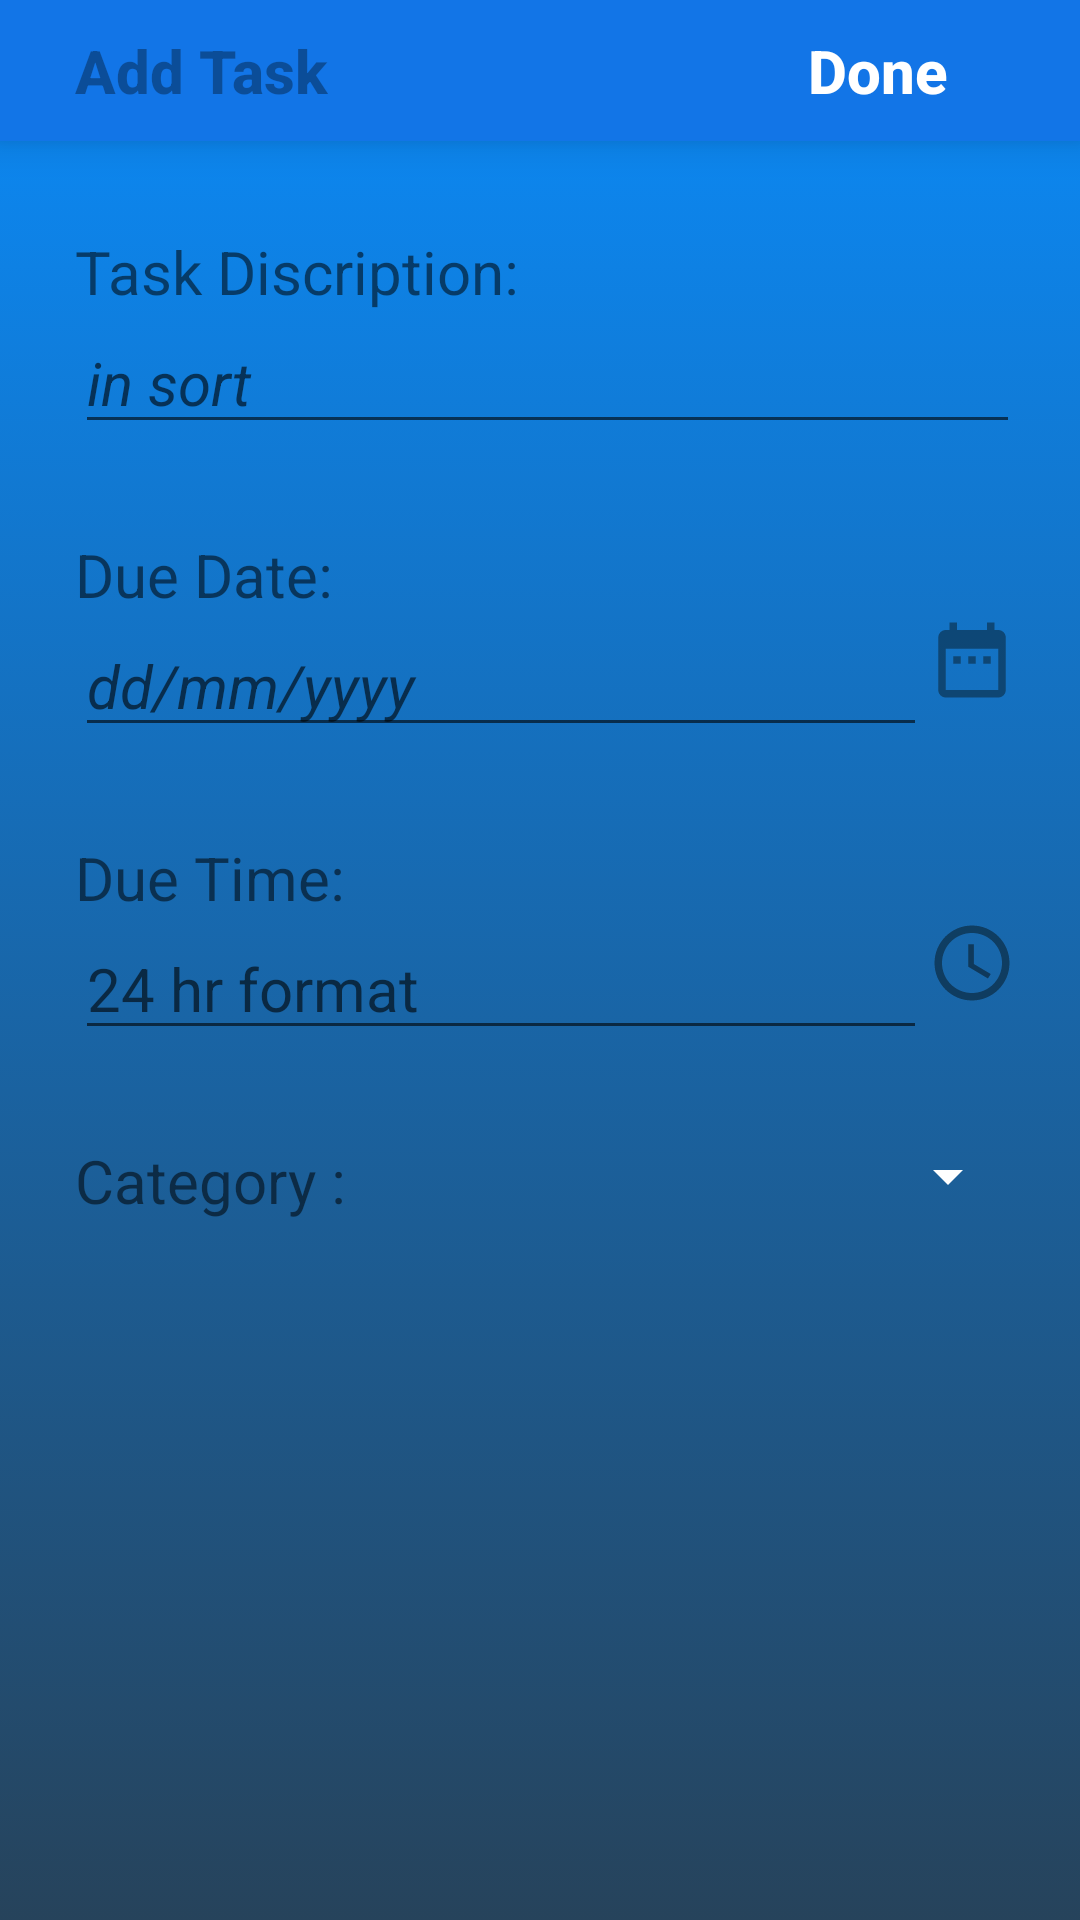

Named icons in this screenshot (1080 × 1920) and their bounding boxes, (x1=x1, y1=y1, x2=x2, y2=y2):
calender: (x1=938, y1=622, x2=1006, y2=698)
time: (x1=934, y1=925, x2=1010, y2=1001)
